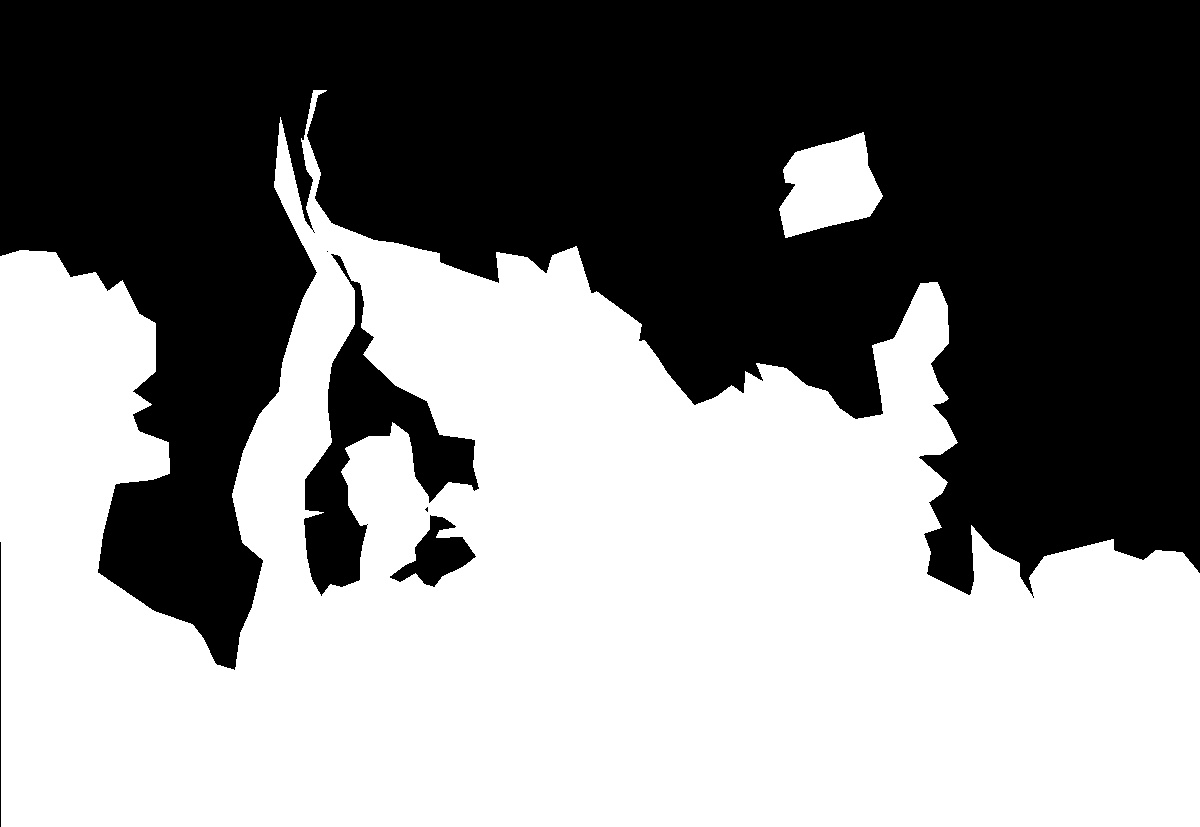Fire: (306, 196, 821, 773)
